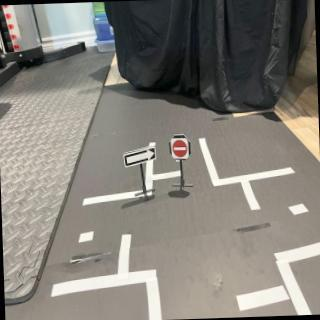sign_noentry: (171, 137, 190, 164)
sign_oneway_right: (123, 144, 159, 170)
